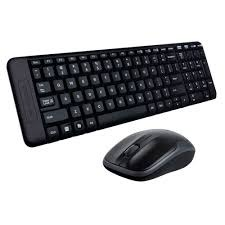keyboard: (8, 38, 217, 122)
mouse: (98, 124, 197, 181)
